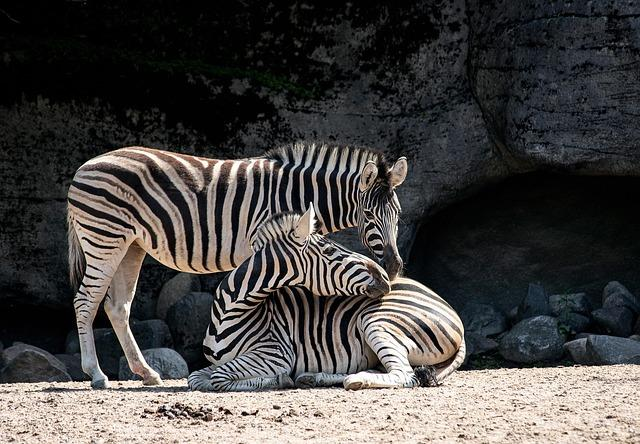Non_Gorille: (59, 85, 479, 375)
